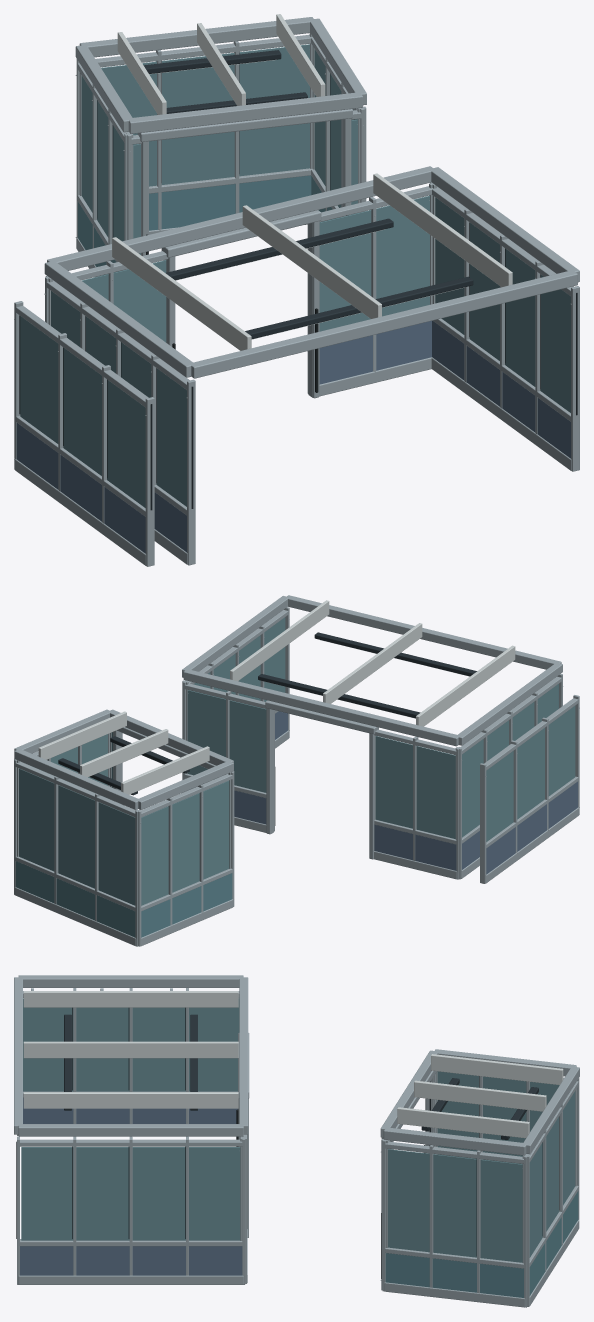
Rendered from SF_C02_Interior.fbx.
The picture shows the model from 3 angles, top to bottom: view 1: azimuth 30°, elevation 25°; view 2: azimuth 150°, elevation 25°; view 3: azimuth 270°, elevation 25°; orthographic projection. The views are drawn at different scales.
Parts seen in each view (by area): view 1: SF_C02_Interior; view 2: SF_C02_Interior; view 3: SF_C02_Interior.
Part boxes in pixels (left/top/right/bottom): SF_C02_Interior: left=14, top=14, right=579, bottom=566; SF_C02_Interior: left=14, top=595, right=579, bottom=946; SF_C02_Interior: left=14, top=975, right=579, bottom=1307.
Size of the model in its own units: 788 by 334 by 1005.
